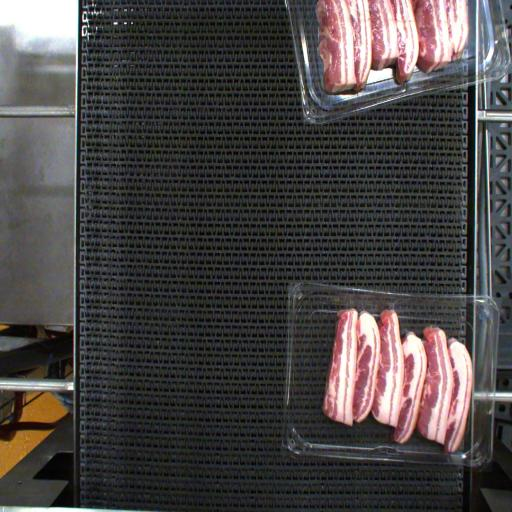packaging-error: (388, 300, 396, 313)
